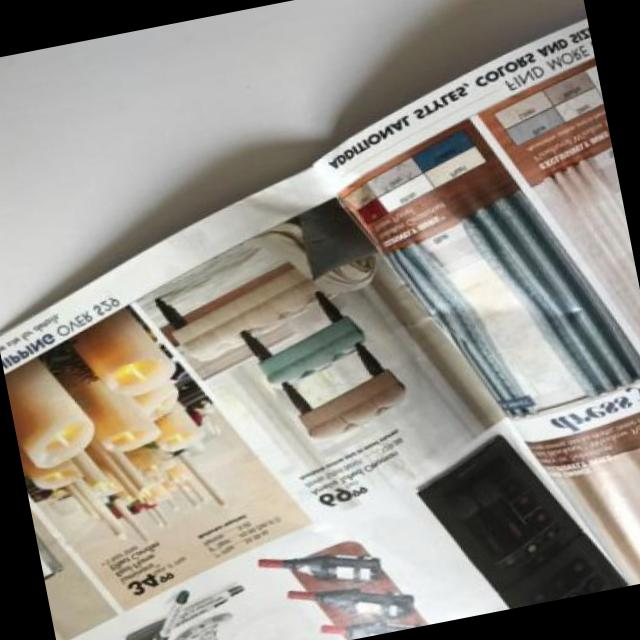cardboard paper: (0, 20, 640, 640), (5, 309, 311, 608)
